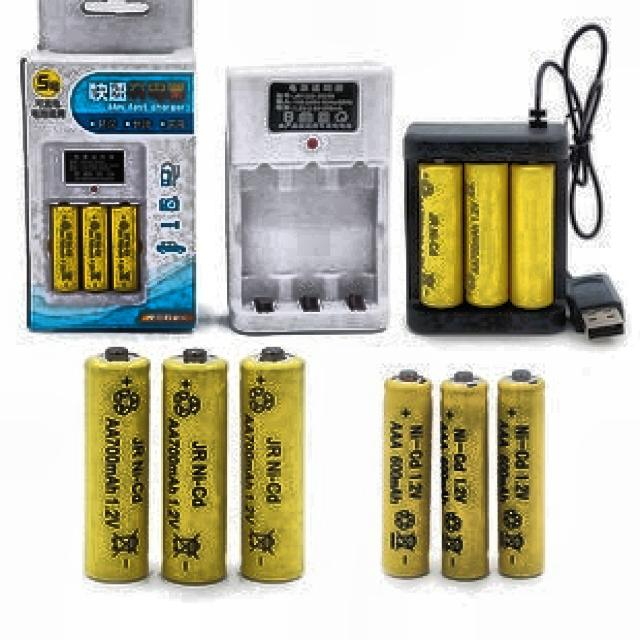Non-Valuable Waste - Batteries: (85, 347, 149, 581), (241, 347, 304, 581), (163, 349, 226, 583), (383, 371, 431, 577), (441, 373, 489, 579), (499, 376, 545, 577), (511, 165, 555, 308), (420, 164, 463, 308), (466, 164, 509, 307), (81, 205, 110, 292), (111, 206, 140, 292), (53, 205, 80, 292)
